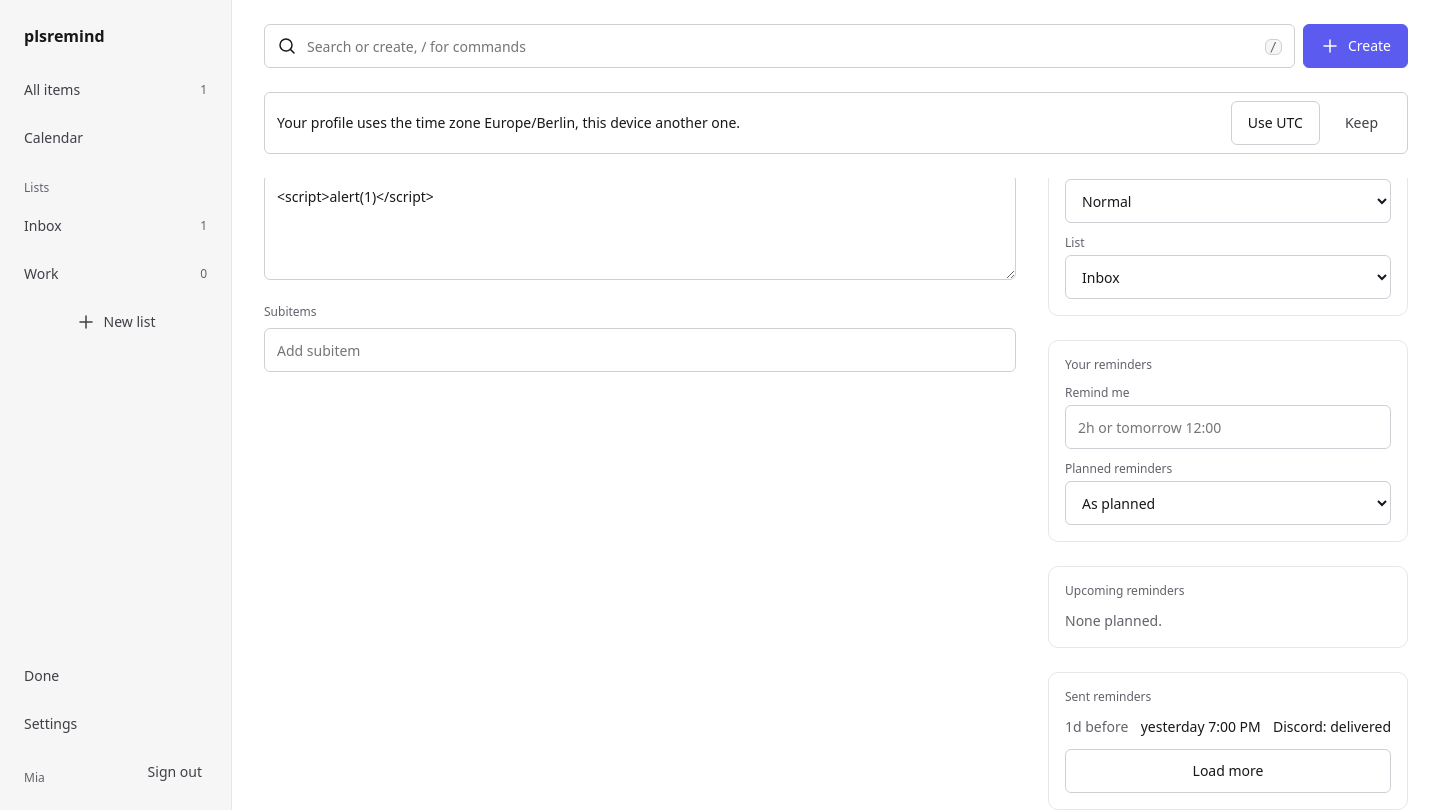
Test: an item's page shows it whole, with what was sent so far
(page scrolled)
Expected: the text box labelled "Note" holds "<script>alert(1)</script>", x1=264 y1=178 x2=1016 y2=280
Expected: the number of list items is 1, x1=1065 y1=717 x2=1391 y2=737
What coordinates should you click on to do the following:
click the button "Load more"
I would click on:
 (1228, 771)
Its box is x1=1065 y1=749 x2=1391 y2=793.
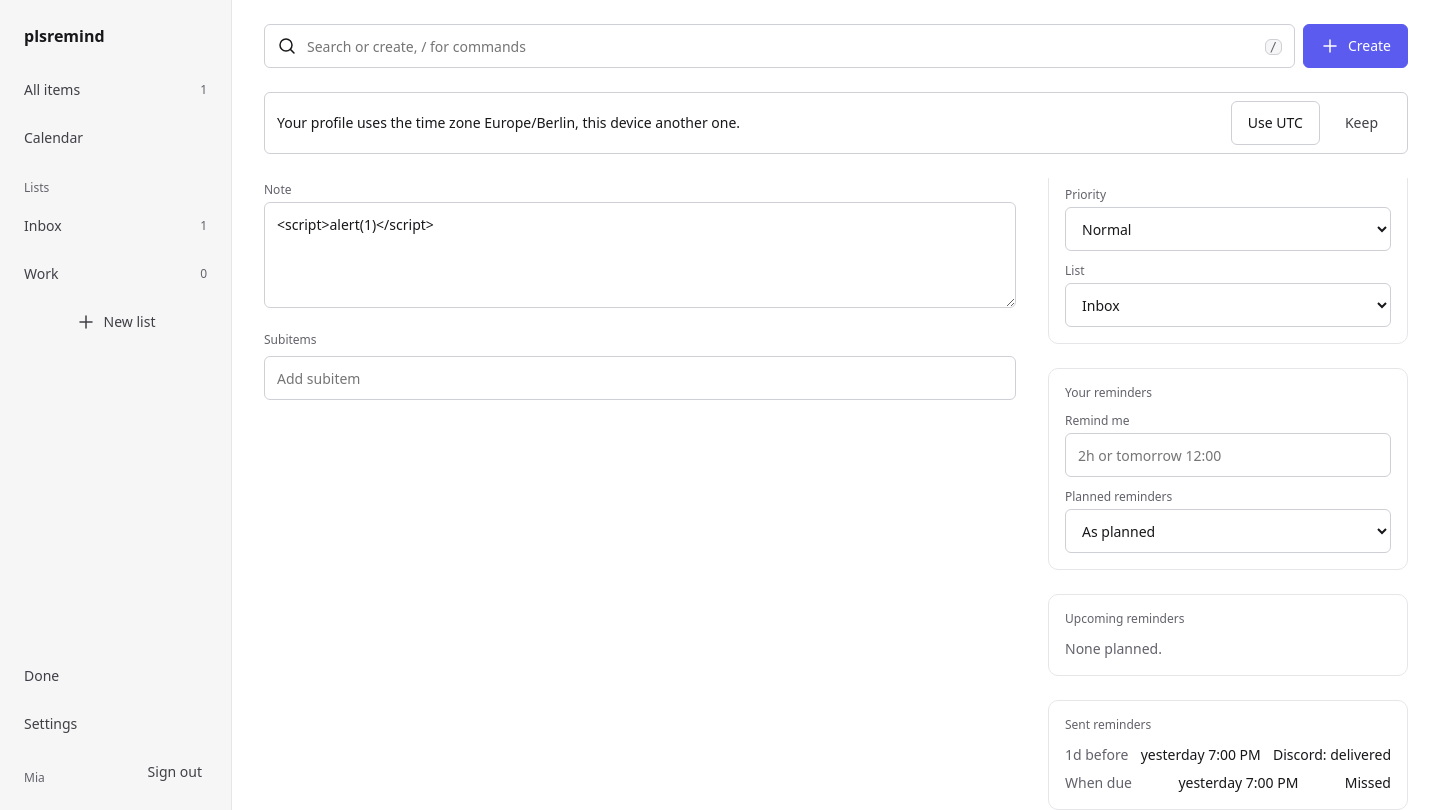
Expected: the number of list items is 2, x1=1065 y1=745 x2=1391 y2=765; x1=1065 y1=773 x2=1391 y2=793
Expected: the button "Load more" is gone
